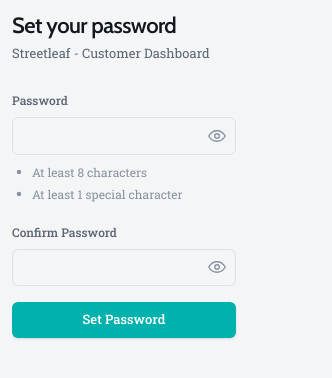
Test: RegisterForm › shows 'Passwords do not match.' live as soon as they diverge
The width and height of the screenshot is (332, 378).
Type "Pass.123" into the password field labelled "Password".
click(124, 136); type("Pass.123")  # box [12,117,236,154]
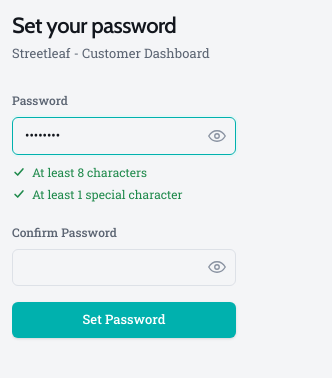
Type "Pass.124" into the password field labelled "Confirm Password".
click(124, 267); type("Pass.124")  # box [12,248,236,286]
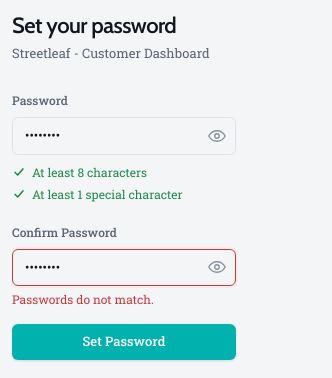
Check: the text "Passwords do not match." is shown, box [12,291,154,307]
